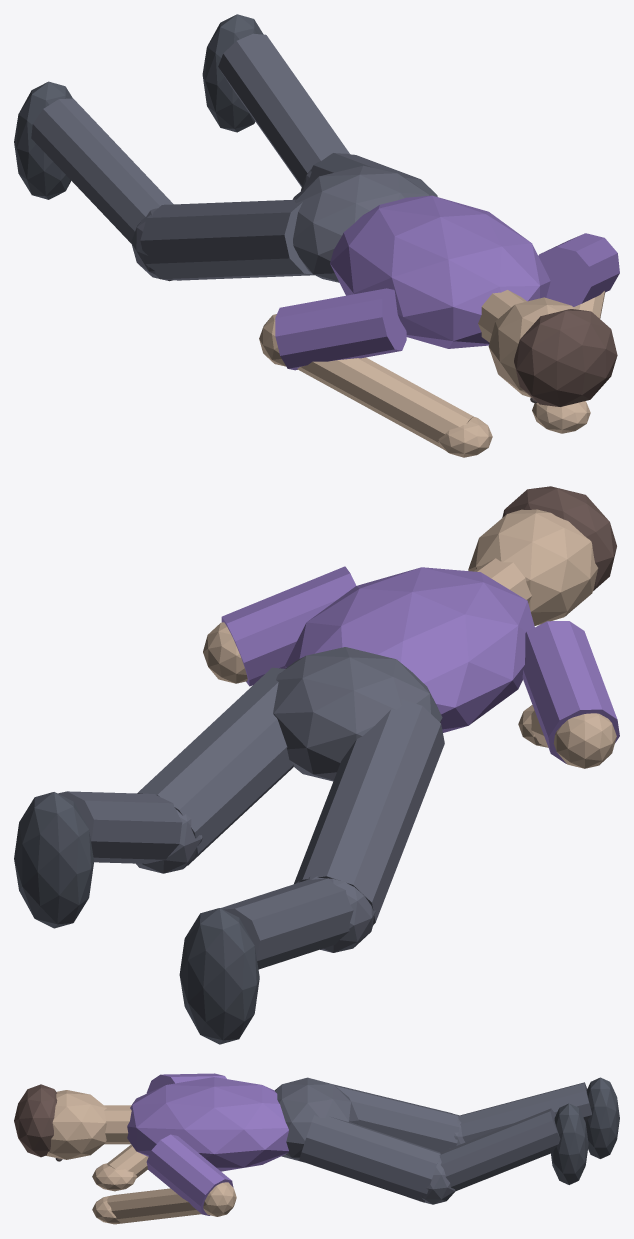
3 renders of one model, top to bottom at view 1: azimuth 30°, elevation 25°; view 2: azimuth 150°, elevation 25°; view 3: azimuth 270°, elevation 25°, orthographic. The views are drawn at different scales.
Visible parts, largest first — view 1: world; view 2: world; view 3: world.
Boxes of the visible parts, box(x1,y1,x2,y2) form: world: box(14, 14, 619, 457); world: box(14, 486, 619, 1044); world: box(14, 1073, 619, 1224).
Size of the model in its own units: 0.93 by 0.4412 by 2.01.
